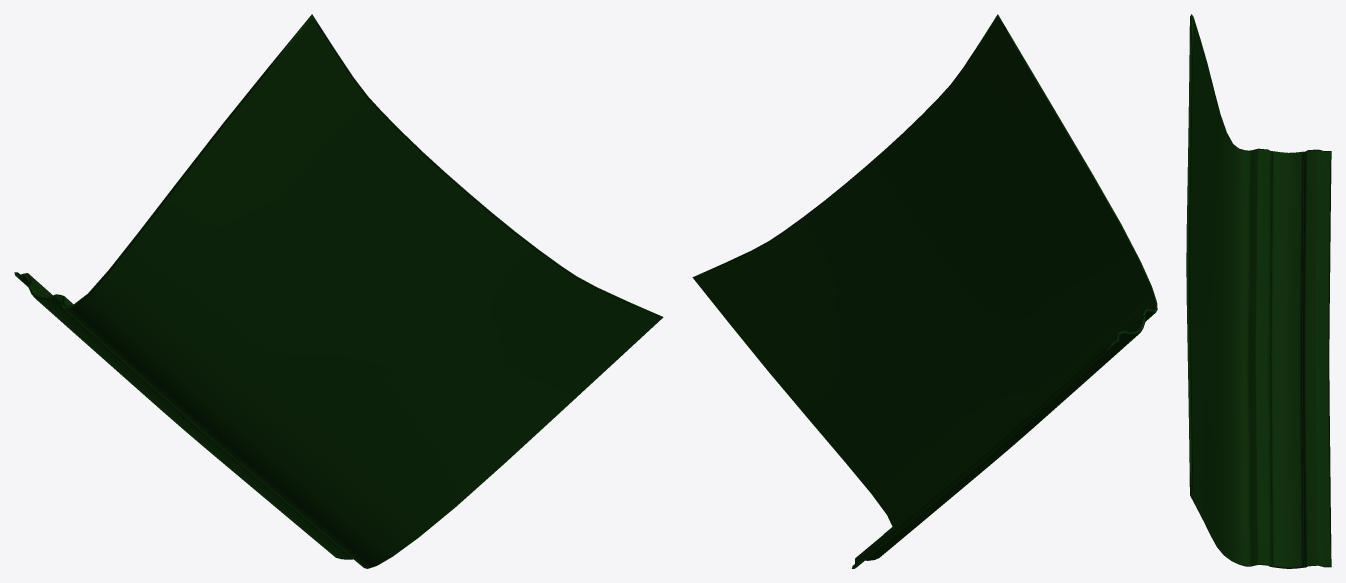
Rendered from Trunk.obj.
3 renders of one model, left to right at view 1: azimuth 30°, elevation 25°; view 2: azimuth 150°, elevation 25°; view 3: azimuth 270°, elevation 25°, orthographic. The views are drawn at different scales.
Visible parts, largest first — view 1: Trunk; view 2: Trunk; view 3: Trunk.
Boxes of the visible parts, x1=… form: Trunk: x1=14, y1=14, x2=663, y2=568; Trunk: x1=692, y1=14, x2=1157, y2=568; Trunk: x1=1186, y1=14, x2=1331, y2=568.
Size of the model in its own units: 1.57 by 1.58 by 0.4001.
